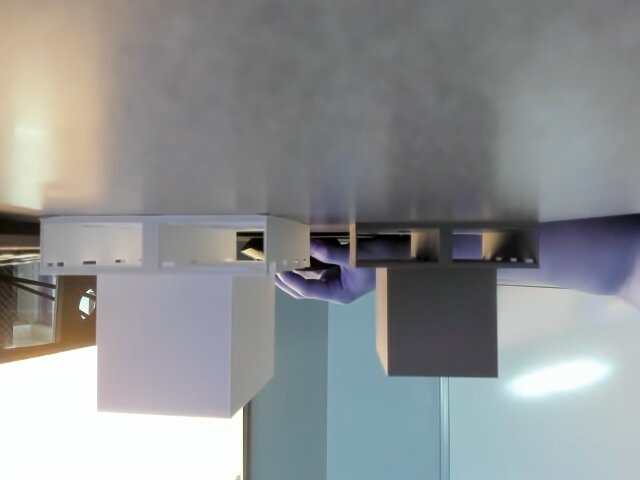grey pallet: (338, 216, 552, 378)
white pallet: (25, 199, 312, 424)
